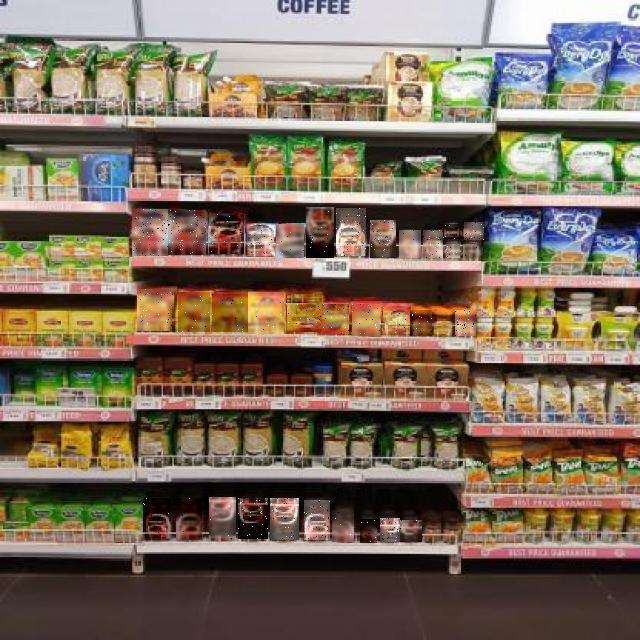Coffee: (169, 210, 207, 255), (132, 209, 168, 256), (138, 289, 174, 331), (248, 292, 284, 334), (337, 209, 367, 257), (208, 214, 244, 254), (306, 207, 334, 258), (212, 294, 248, 332), (286, 294, 322, 332), (178, 293, 210, 333), (238, 498, 268, 539), (270, 498, 299, 540), (143, 498, 171, 540), (209, 498, 236, 540), (176, 498, 202, 540), (304, 500, 330, 540), (370, 220, 396, 258), (276, 224, 304, 258), (247, 224, 275, 256), (352, 304, 380, 336), (383, 304, 411, 334), (322, 304, 349, 334), (332, 510, 354, 542), (399, 230, 421, 258), (410, 310, 432, 336), (423, 230, 443, 258), (455, 310, 476, 336), (400, 520, 422, 542), (380, 518, 400, 542), (360, 519, 377, 543), (465, 222, 485, 240), (443, 224, 462, 239), (463, 244, 483, 258), (446, 244, 460, 258)
